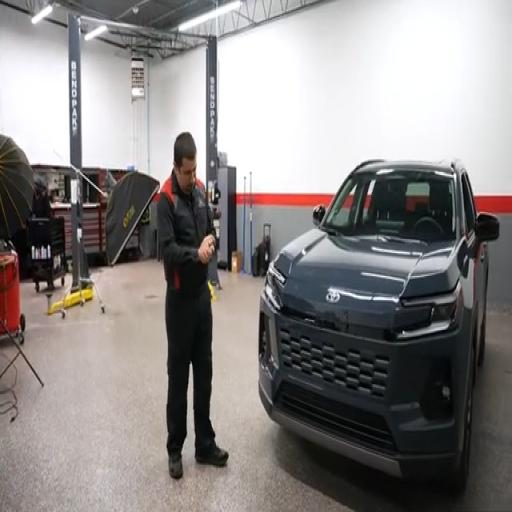bumper: (260, 295, 470, 479)
door: (462, 173, 485, 325)
emblem: (326, 291, 340, 302)
fog_light: (442, 386, 451, 401)
headlight: (394, 282, 462, 339), (264, 262, 286, 310)
hood: (275, 229, 459, 301)
side_mirror: (476, 212, 499, 241), (313, 205, 325, 226)
tire: (449, 343, 475, 494), (477, 279, 487, 366)
wheel: (450, 345, 475, 493), (477, 284, 487, 366)
window: (462, 174, 476, 233)
windshield: (323, 171, 455, 243)
